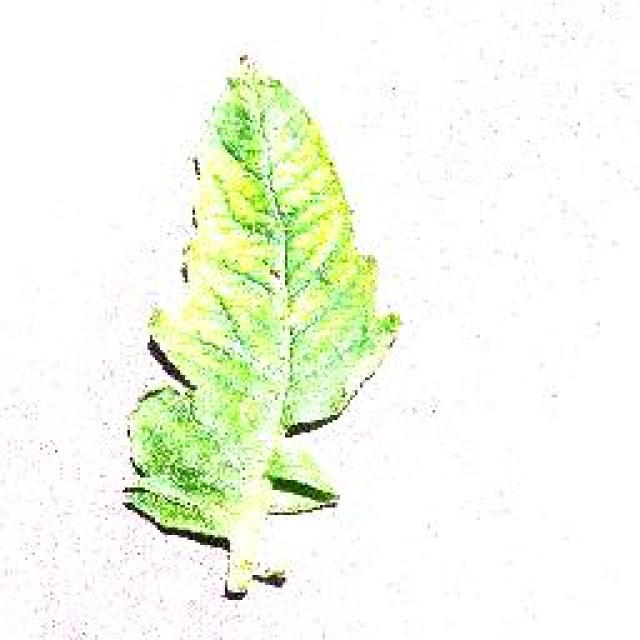Tomato___Tomato_mosaic_virus: (128, 55, 398, 595)
